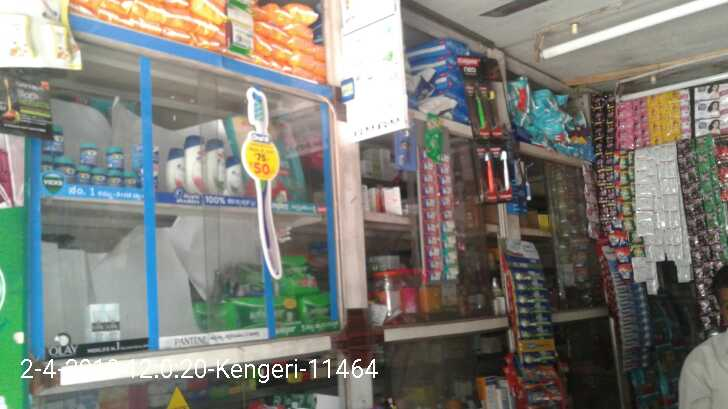vicks: (44, 123, 137, 187)
